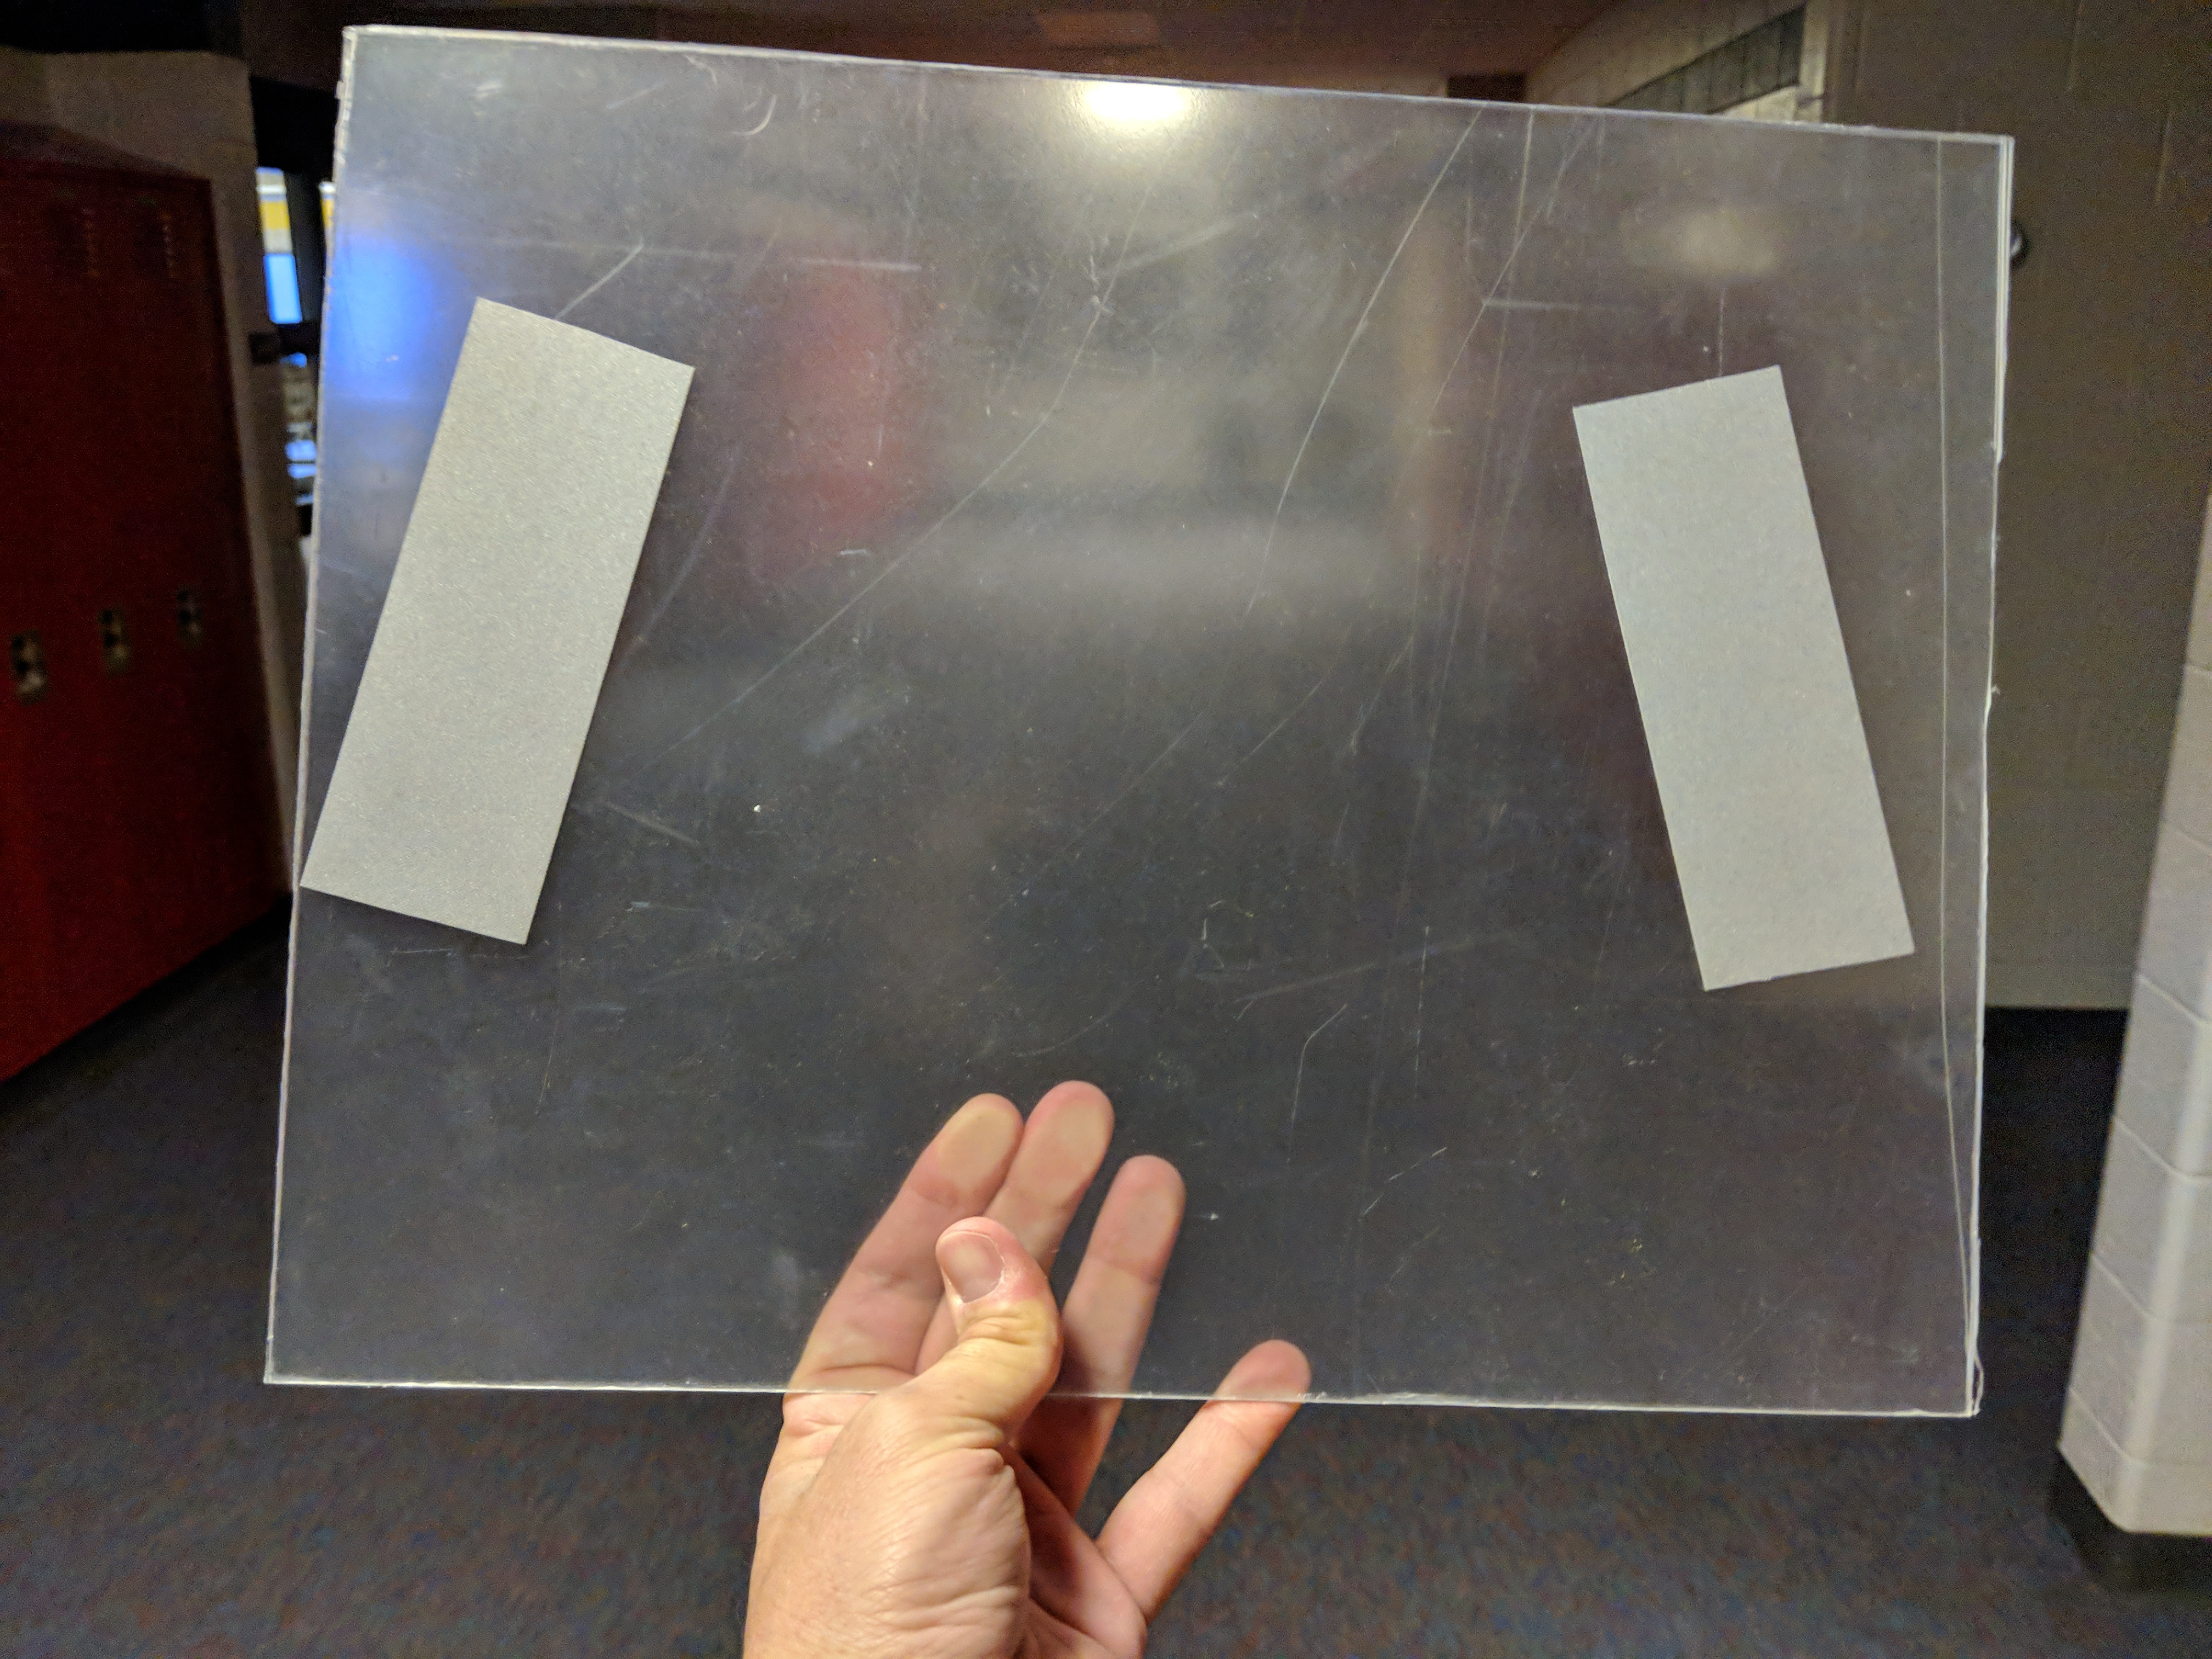vision_target: (279, 275, 1932, 1012)
